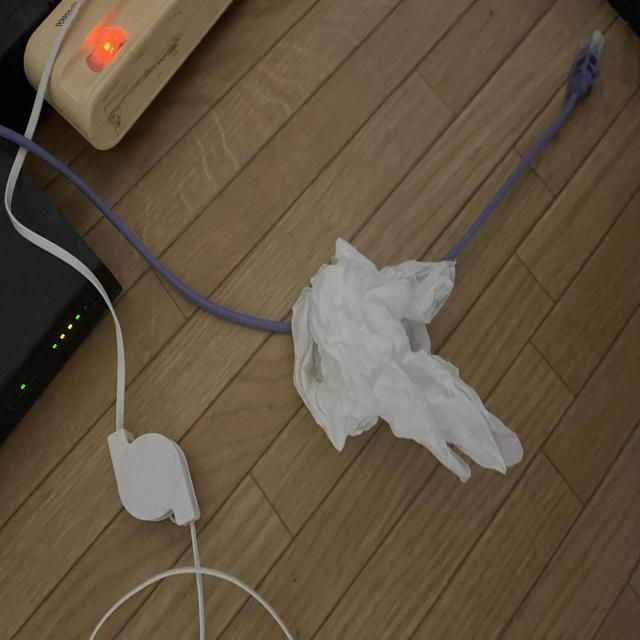衛生紙: (385, 177, 640, 364)
